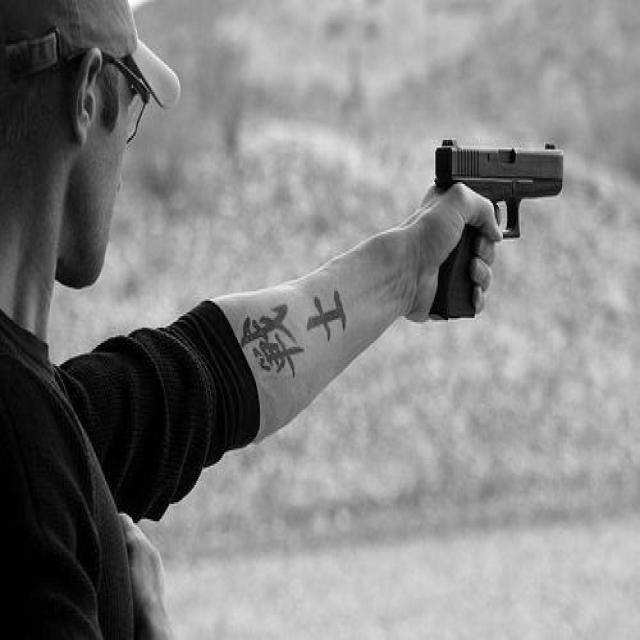gun: (432, 136, 566, 325)
